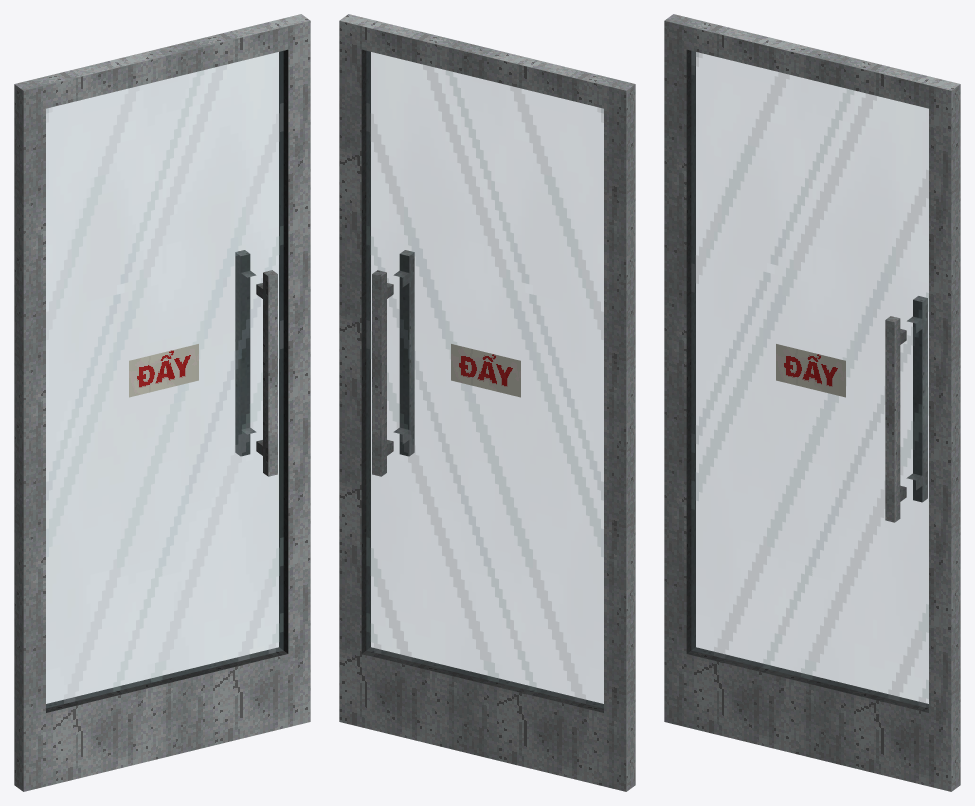
The model's file is door_glass_shop.glb.
3 views of the same model, side by side, from view 1: azimuth 30°, elevation 25°; view 2: azimuth 150°, elevation 25°; view 3: azimuth 330°, elevation 25° (orthographic).
Parts seen in each view (by area): view 1: door_glass, door_glass_shop_metal_alu, door_glass_shop_sticker_push; view 2: door_glass, door_glass_shop_metal_alu, door_glass_shop_sticker_push; view 3: door_glass, door_glass_shop_metal_alu, door_glass_shop_sticker_push.
Part boxes in pixels (x1=…): door_glass: x1=46, y1=51, x2=283, y2=707; door_glass_shop_metal_alu: x1=14, y1=14, x2=310, y2=791; door_glass_shop_sticker_push: x1=129, y1=344, x2=198, y2=397; door_glass: x1=366, y1=51, x2=603, y2=707; door_glass_shop_metal_alu: x1=339, y1=14, x2=635, y2=791; door_glass_shop_sticker_push: x1=451, y1=344, x2=520, y2=397; door_glass: x1=691, y1=51, x2=928, y2=707; door_glass_shop_metal_alu: x1=664, y1=14, x2=960, y2=791; door_glass_shop_sticker_push: x1=776, y1=344, x2=845, y2=397.
Size of what is drawn, in the model's own units: 0.9 by 2.1 by 0.18.
3 materials, 3 textured.
